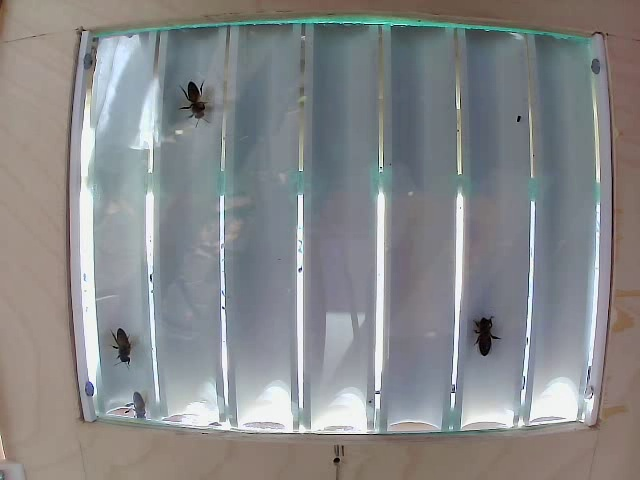bee: (182, 80, 221, 140), (100, 319, 141, 366), (483, 298, 510, 351)
